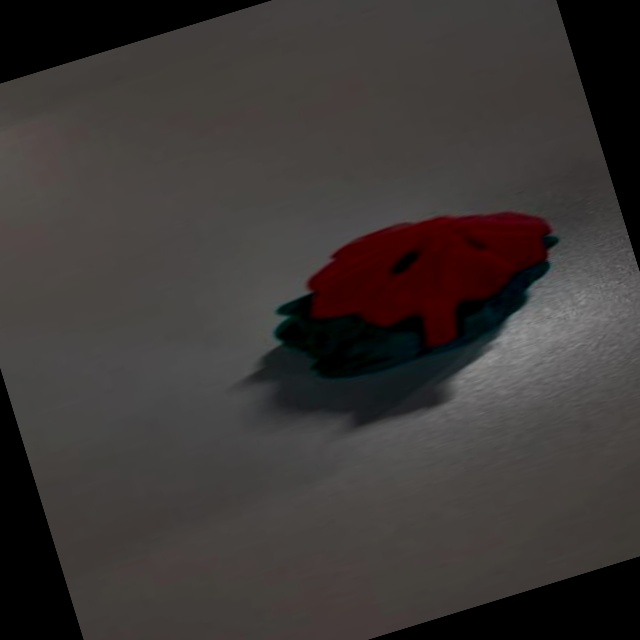House: (253, 174, 575, 404)
